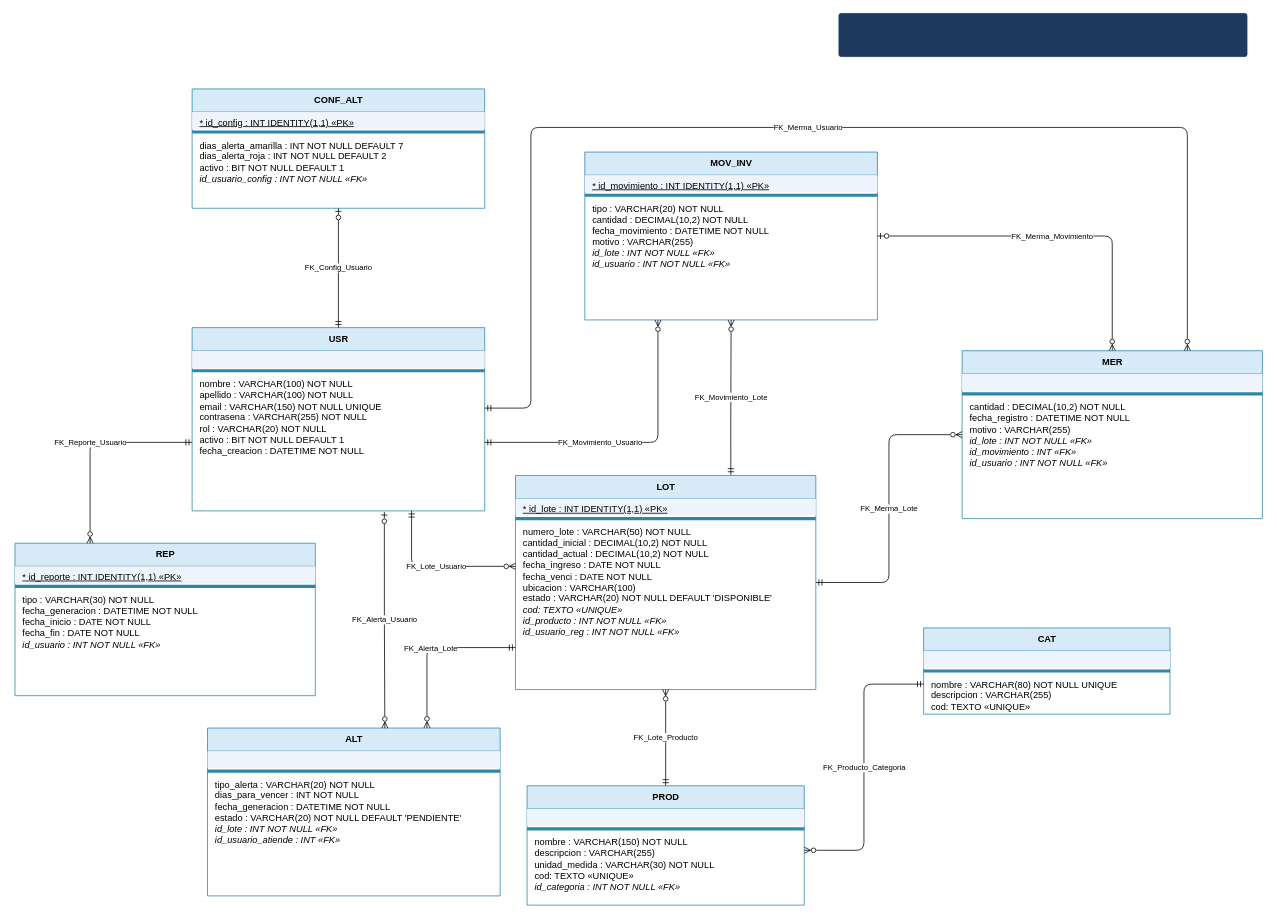
Some shapes in this 1277 by 919 pixel diagram are drawn without their labels. Here are the shapes that lost their labels. From the top down, the centre of each, then its label:
[1042,35]: Modelo Físico Sistema de Inventario de Productos Perecibles (SQL Server)
[338,358]: * id_usuario : INT IDENTITY(1,1) «PK»
[1112,381]: * id_merma : INT IDENTITY(1,1) «PK»
[1046,659]: * id_categoria : INT IDENTITY(1,1) «PK»
[353,759]: * id_alerta : INT IDENTITY(1,1) «PK»
[665,816]: * id_producto : INT IDENTITY(1,1) «PK»
